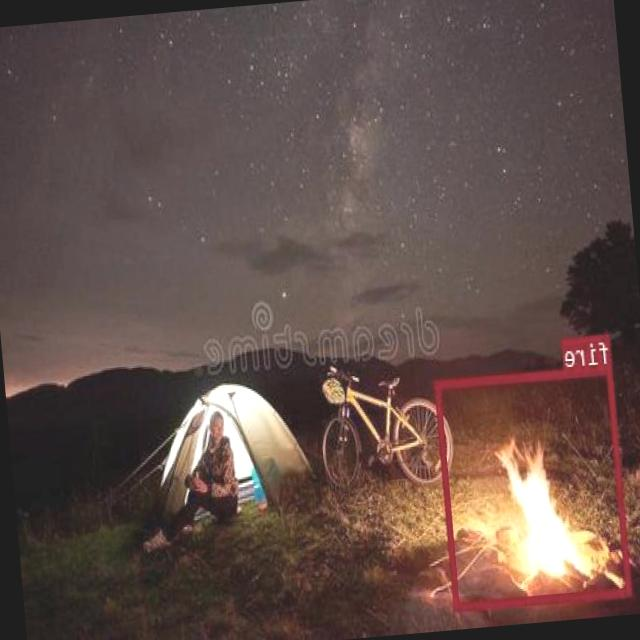fire: (434, 362, 632, 610)
